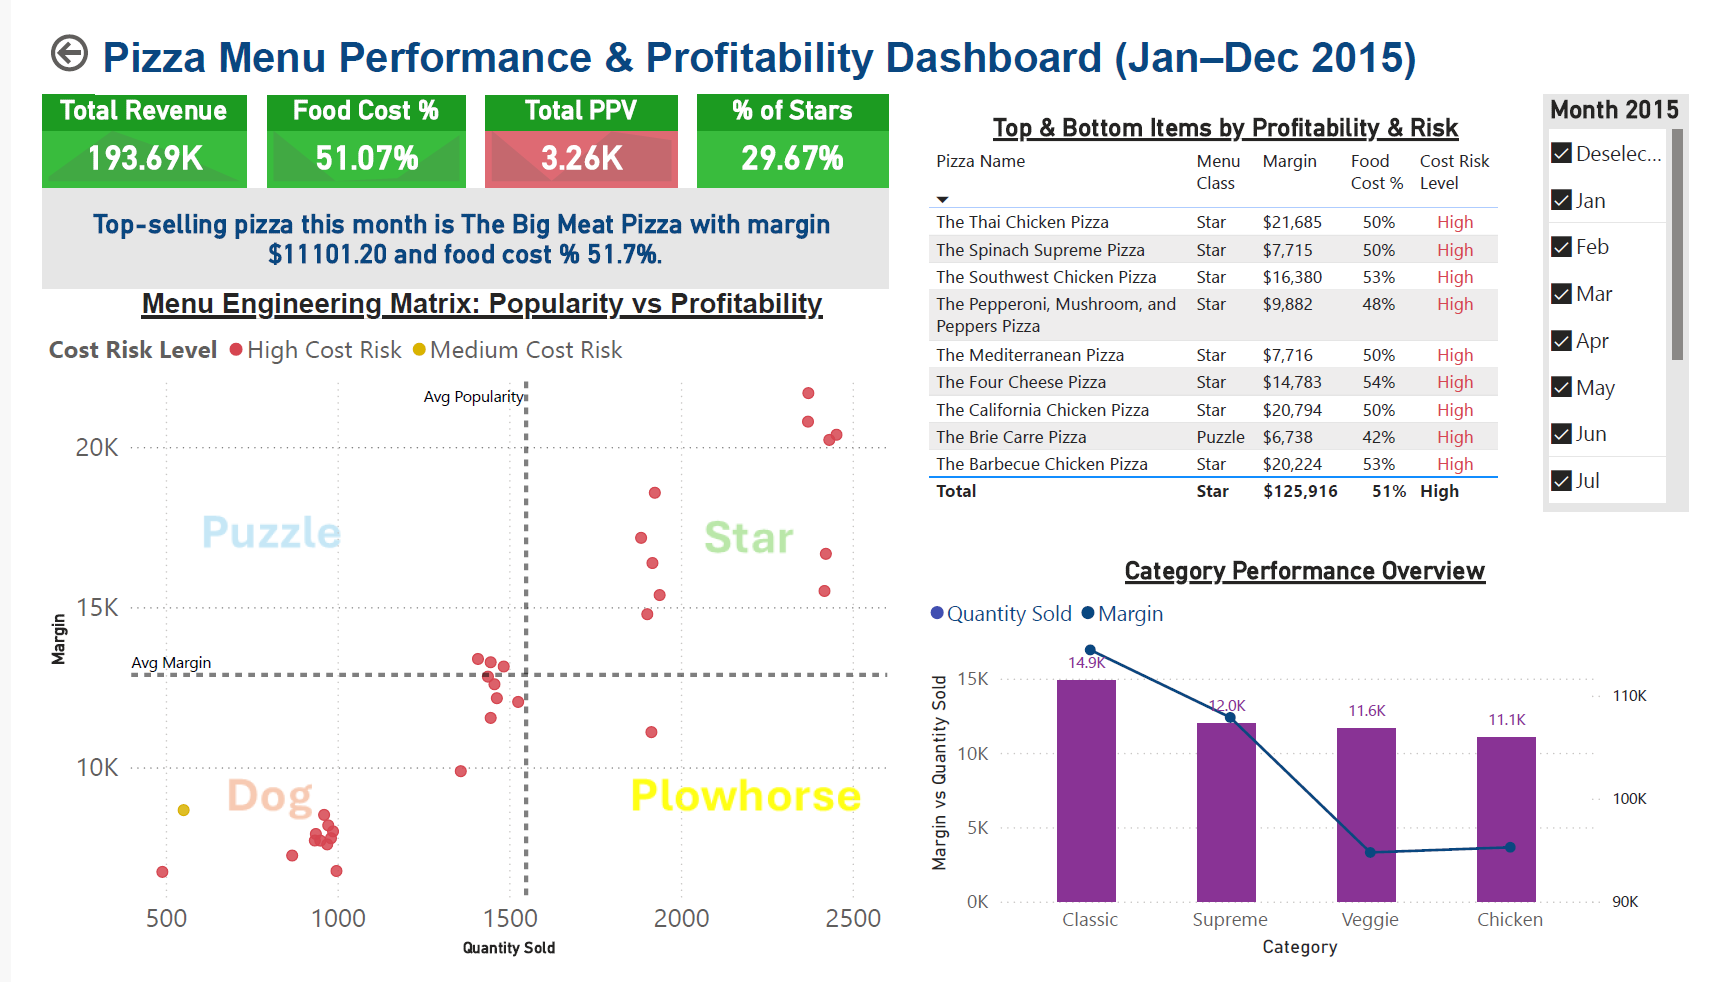

The page's visual inventory and layout, read from the dashboard file:
{"tool":"powerbi","page":{"name":"Menu Engineering","canvas":[1280,720],"ordinal":0},"visuals":[{"type":"scatterChart","title":"Menu Engineering Matrix: Popularity vs Profitability","fields":{"X":["v_menu_engineering_classified.Quantity Sold measure"],"Y":["v_menu_engineering_classified.Margin measure"],"Category":["v_menu_engineering_classified.Item Name"],"Series":["v_menu_engineering_classified.Food Cost Risk Band"]},"box":[0,199.9,676.8,519.4],"z":0},{"type":"kpi","title":"Total Revenue","fields":{"TrendLine":["v_menu_engineering_classified.Category"],"Indicator":["v_menu_engineering_classified.Total Revenue"]},"box":[0,51.5,157.5,71.2],"z":1000},{"type":"kpi","title":"Total PPV","fields":{"TrendLine":["v_menu_engineering_classified.Category"],"Indicator":["v_menu_engineering_classified.Total PPV"]},"box":[340.7,51.5,148.4,71.2],"z":2000},{"type":"kpi","title":"Food Cost % ","fields":{"Indicator":["v_menu_engineering_classified.Cost%"],"TrendLine":["v_menu_engineering_classified.Category"]},"box":[172.6,51.5,152.9,71.2],"z":3000},{"type":"lineClusteredColumnComboChart","title":"Category Performance Overview","fields":{"Category":["v_menu_engineering_classified.Category"],"Y":["v_menu_engineering_classified.Quantity Sold measure"],"Y2":["v_menu_engineering_classified.Margin measure"]},"box":[676.8,405.8,590.5,313.4],"z":4000},{"type":"textbox","box":[40.9,0,1211.4,51.5],"z":5000},{"type":"kpi","title":"% of Stars ","fields":{"Indicator":["v_menu_engineering_classified.% of Stars"],"TrendLine":["v_menu_engineering_classified.Category"]},"box":[504.2,51.5,146.9,71.2],"z":6000},{"type":"listSlicer","title":"Month 2015","fields":{"Values":["pizza_order.Month Short"]},"box":[1155.3,51.5,112.1,321],"z":7000},{"type":"tableEx","title":"Top & Bottom Items by Profitability & Risk","fields":{"Values":["v_menu_engineering_classified.Item Name","v_menu_engineering_classified.Menu Class Measure","v_menu_engineering_classified.Margin measure","v_menu_engineering_classified.Food Cost %","v_menu_engineering_classified.Cost Risk Level"]},"box":[676.8,65.1,467.9,340.7],"z":8000},{"type":"actionButton","box":[1.5,0,39.4,37.9],"z":9000},{"type":"card","fields":{"Values":["v_menu_engineering_classified.Top Pizza Summary"]},"box":[0,122.7,651.1,77.2],"z":9001}]}

Visuals, with their boxes in screenshot pixels (x1, y1, x2, y2), scaled from the page's 1280x720 canvas onto the 1720x982 screenshot:
"Menu Engineering Matrix: Popularity vs Profitability" scatterChart: x1=0 y1=273 x2=909 y2=981
"Total Revenue" kpi: x1=0 y1=70 x2=212 y2=167
"Total PPV" kpi: x1=458 y1=70 x2=657 y2=167
"Food Cost % " kpi: x1=232 y1=70 x2=437 y2=167
"Category Performance Overview" lineClusteredColumnComboChart: x1=909 y1=553 x2=1703 y2=981
textbox: x1=55 y1=0 x2=1683 y2=70
"% of Stars " kpi: x1=678 y1=70 x2=875 y2=167
"Month 2015" listSlicer: x1=1552 y1=70 x2=1703 y2=508
"Top & Bottom Items by Profitability & Risk" tableEx: x1=909 y1=89 x2=1538 y2=553
actionButton: x1=2 y1=0 x2=55 y2=52
card - v_menu_engineering_classified.Top Pizza Summary: x1=0 y1=167 x2=875 y2=273
